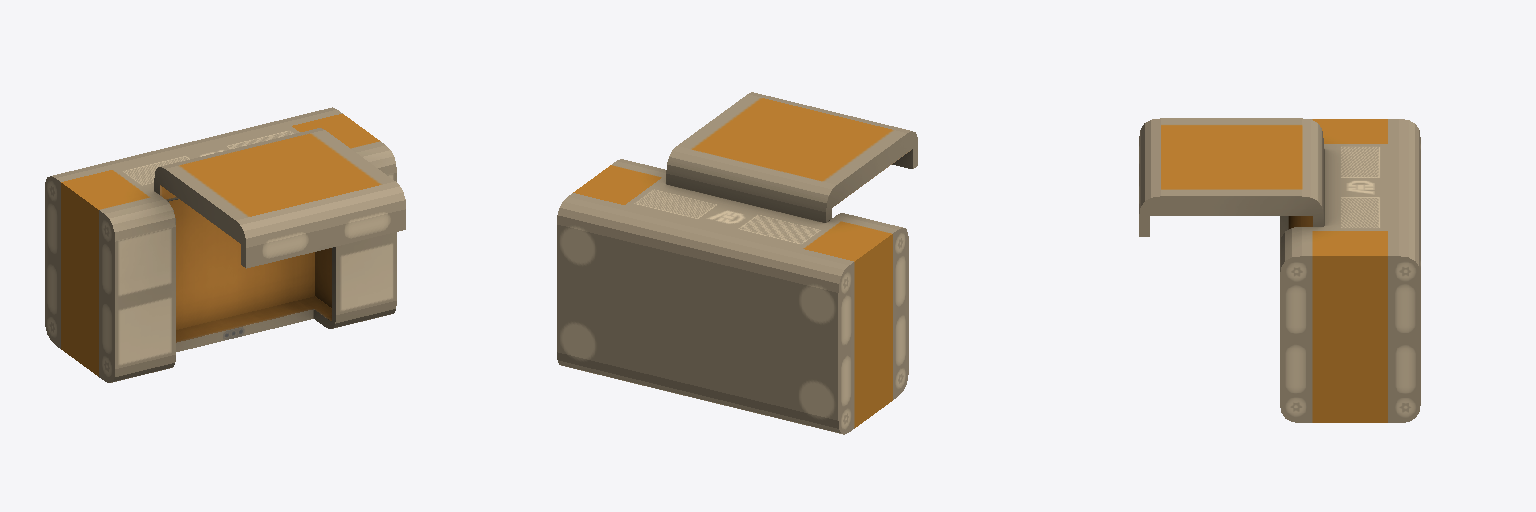
3 renders of one model, left to right at view 1: azimuth 30°, elevation 25°; view 2: azimuth 150°, elevation 25°; view 3: azimuth 270°, elevation 25°, orthographic.
Parts seen in each view (by area): view 1: Box001, Object001; view 2: Box001, Object001; view 3: Box001, Object001.
Part boxes in pixels (bbox=[...]): Box001: bbox=[45, 107, 396, 382]; Object001: bbox=[154, 128, 405, 268]; Box001: bbox=[557, 159, 908, 434]; Object001: bbox=[666, 92, 917, 222]; Box001: bbox=[1280, 119, 1420, 422]; Object001: bbox=[1139, 118, 1323, 236].
Bounding box in the file's own units: 30 × 20.06 × 25.97.
Materials: 1 (1 with a texture image).